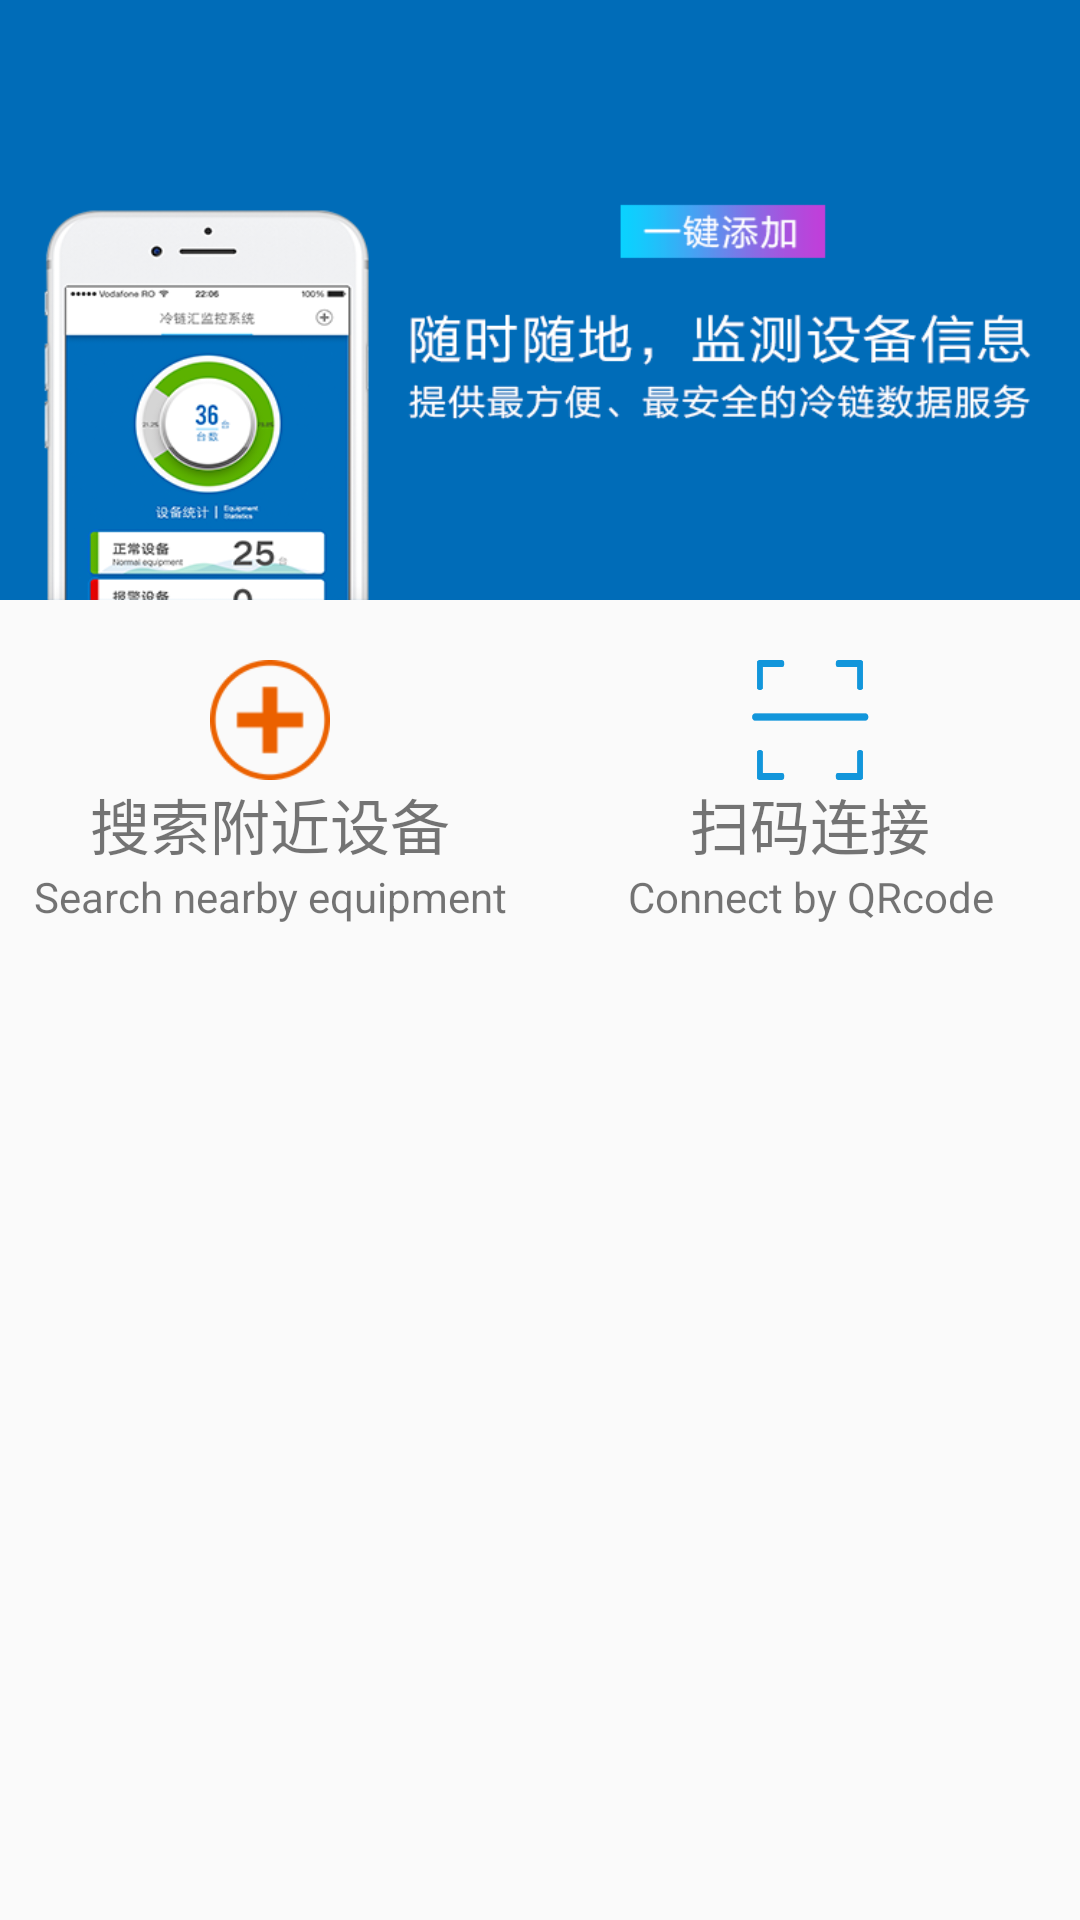

Where icons sit on this 1080×1920 app screen, as Rect(x1, y1, x2, y2):
selecter add device: Rect(210, 660, 330, 780)
